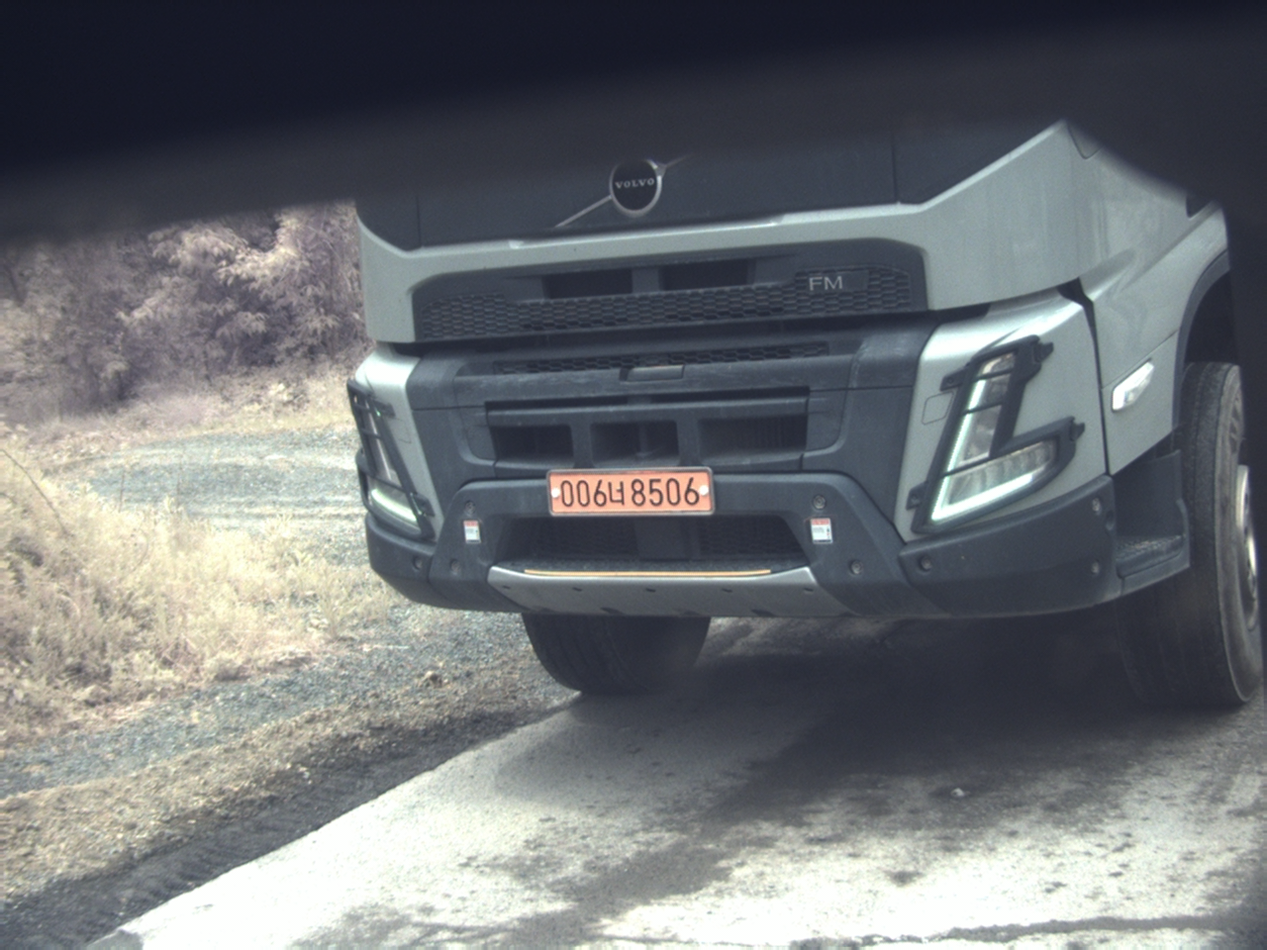license_plate: (549, 469, 713, 514)
truck: (349, 122, 1260, 705)
